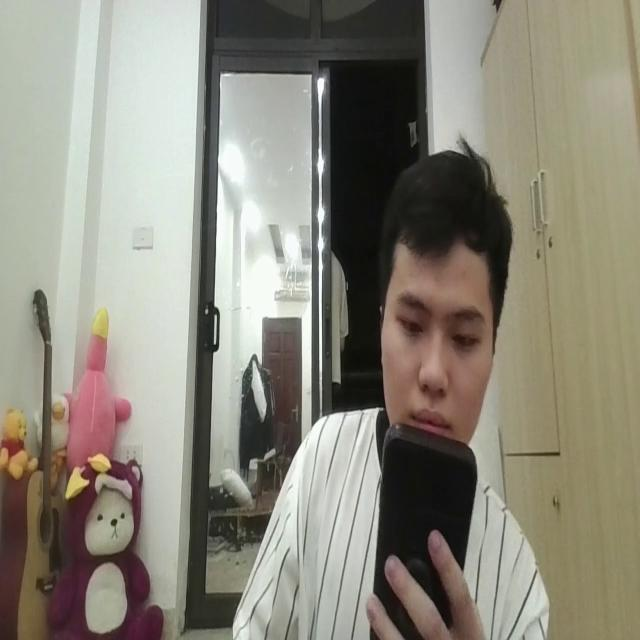phone: (369, 412, 476, 640)
student: (233, 142, 549, 640)
